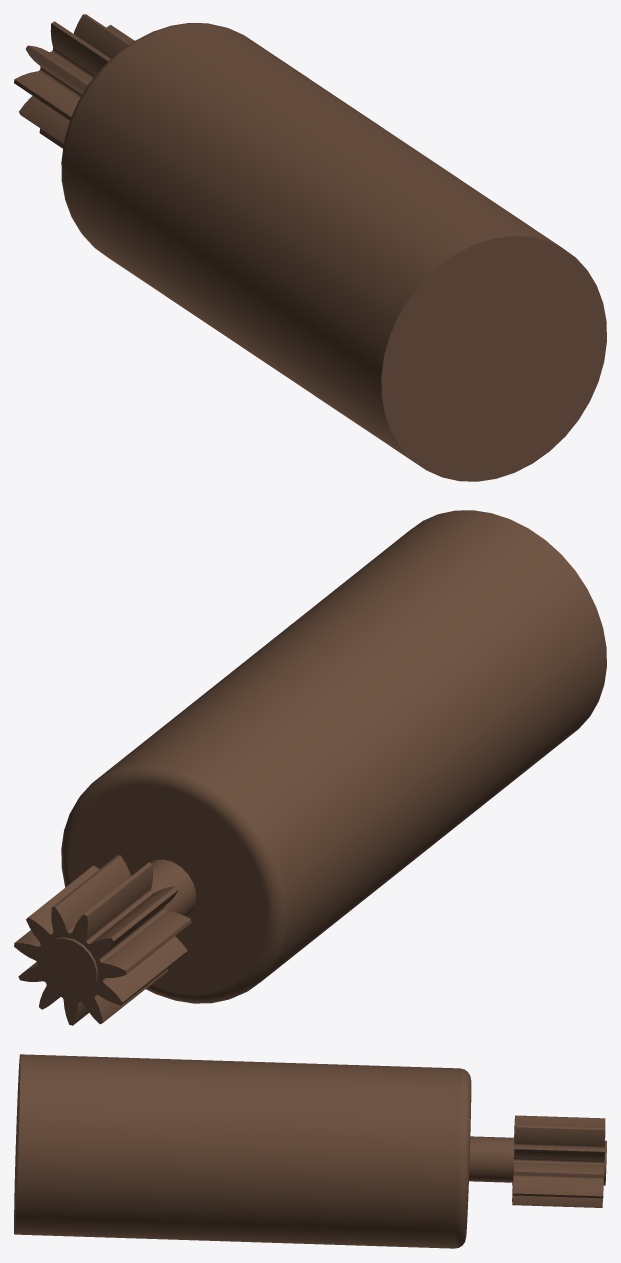
File: Gearing.gltf
3 renders of one model, top to bottom at view 1: azimuth 30°, elevation 25°; view 2: azimuth 150°, elevation 25°; view 3: azimuth 270°, elevation 25°, orthographic. The views are drawn at different scales.
Parts seen in each view (by area): view 1: Solid1; view 2: Solid1; view 3: Solid1.
Boxes of the visible parts, x1,y1,x2,y2 form: Solid1: (14, 14, 606, 481); Solid1: (14, 510, 606, 1025); Solid1: (14, 1054, 606, 1248).
Bounding box in the file's own units: 0.00797 × 0.00868 × 0.0263.
